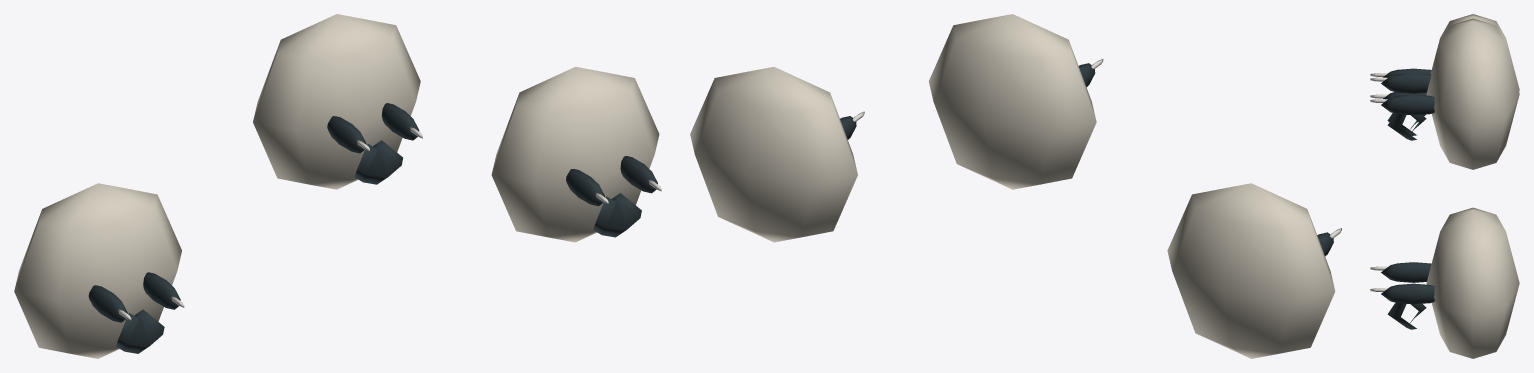
The picture shows the model from 3 angles, left to right: view 1: azimuth 30°, elevation 25°; view 2: azimuth 150°, elevation 25°; view 3: azimuth 270°, elevation 25°; orthographic projection. The views are drawn at different scales.
Visible parts, largest first — view 1: faces; view 2: faces; view 3: faces.
Part boxes in pixels (bbox=[...]): faces: bbox=[14, 14, 661, 358]; faces: bbox=[690, 14, 1341, 358]; faces: bbox=[1370, 14, 1519, 358].
Bounding box in the file's own units: 0.3285 × 0.1395 × 0.0793.
